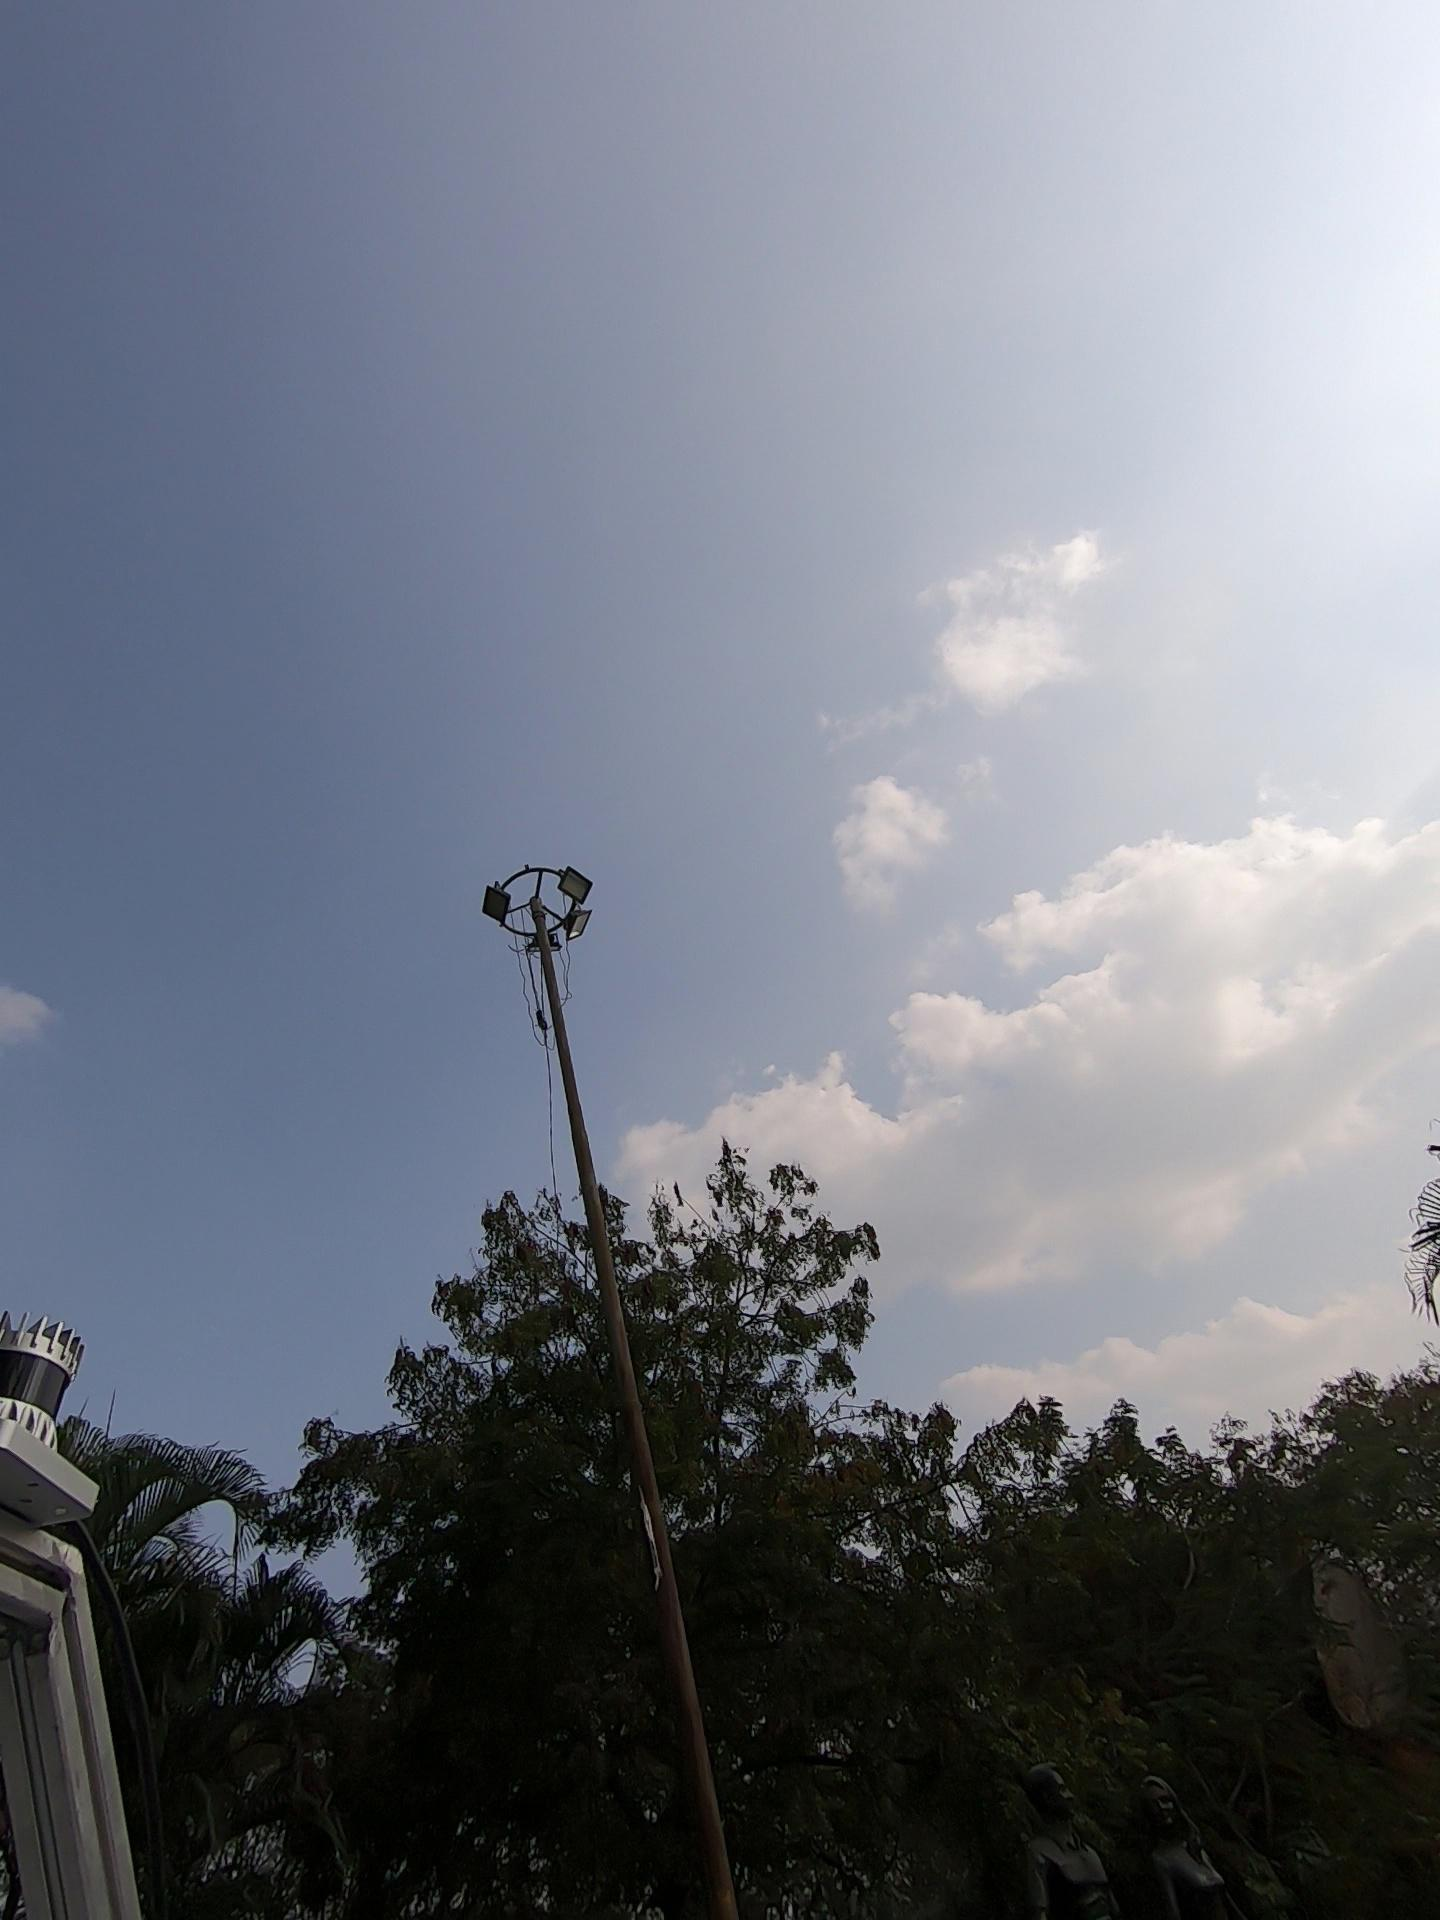off: (425, 810, 652, 1075)
